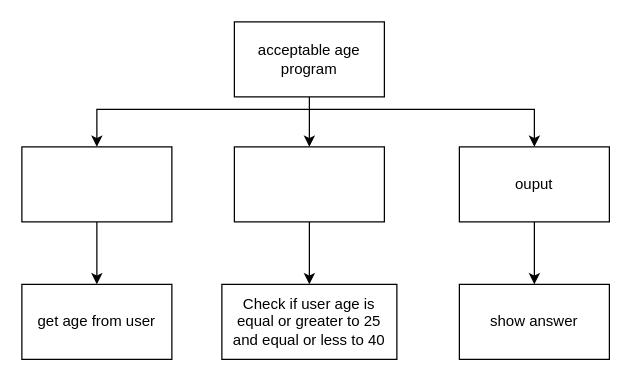
Some shapes in this 631 by 381 pixel diagram are drawn without their labels. The box of each missing label's shape, as (x1, y1, x2, y2) in pixels:
input: (21, 146, 172, 222)
process: (233, 146, 384, 222)
